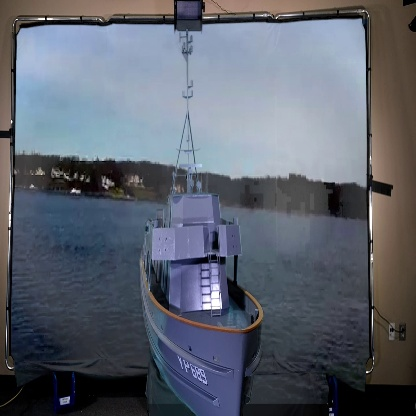YP689: (138, 30, 264, 416)
